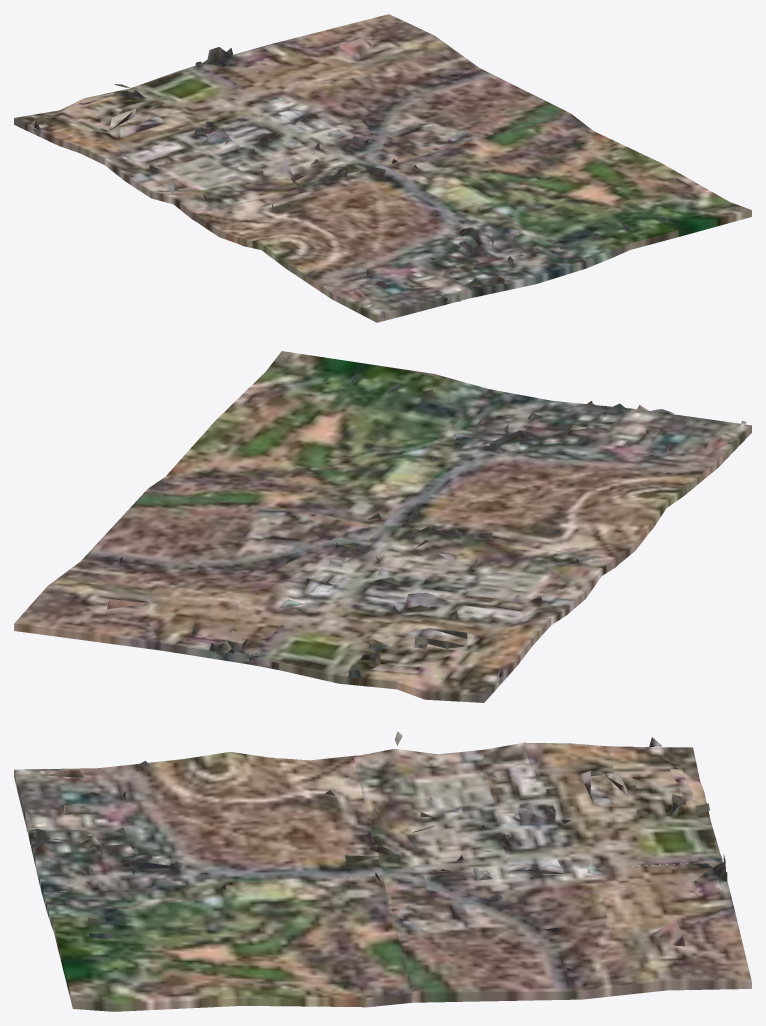
3 views of the same model, one above another, from view 1: azimuth 30°, elevation 25°; view 2: azimuth 150°, elevation 25°; view 3: azimuth 270°, elevation 25° (orthographic). The views are drawn at different scales.
Parts seen in each view (by area): view 1: Mesh_0; view 2: Mesh_0; view 3: Mesh_0.
Part boxes in pixels (x1,y1,x2,y2): Mesh_0: [14, 14, 751, 322]; Mesh_0: [14, 351, 751, 702]; Mesh_0: [14, 731, 751, 1011].
Size of the model in its own units: 1064 by 109 by 1318.
Materials: 1 (1 with a texture image).
